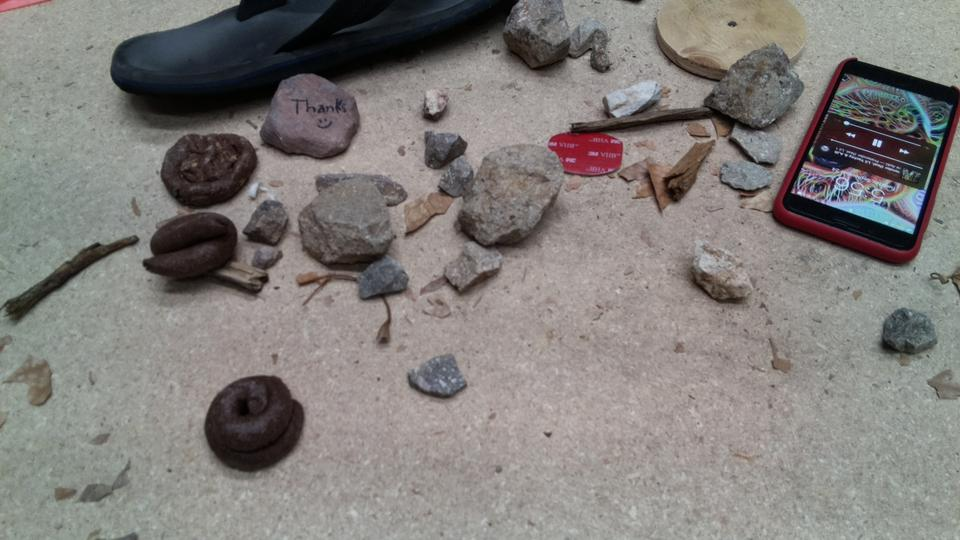poop: (202, 372, 307, 474), (159, 129, 258, 209), (142, 209, 239, 287)
